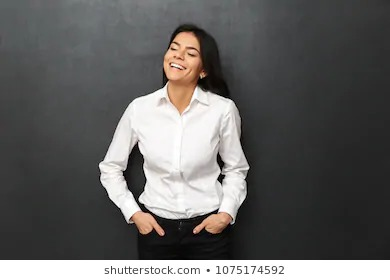F_shirt: (101, 81, 254, 219)
